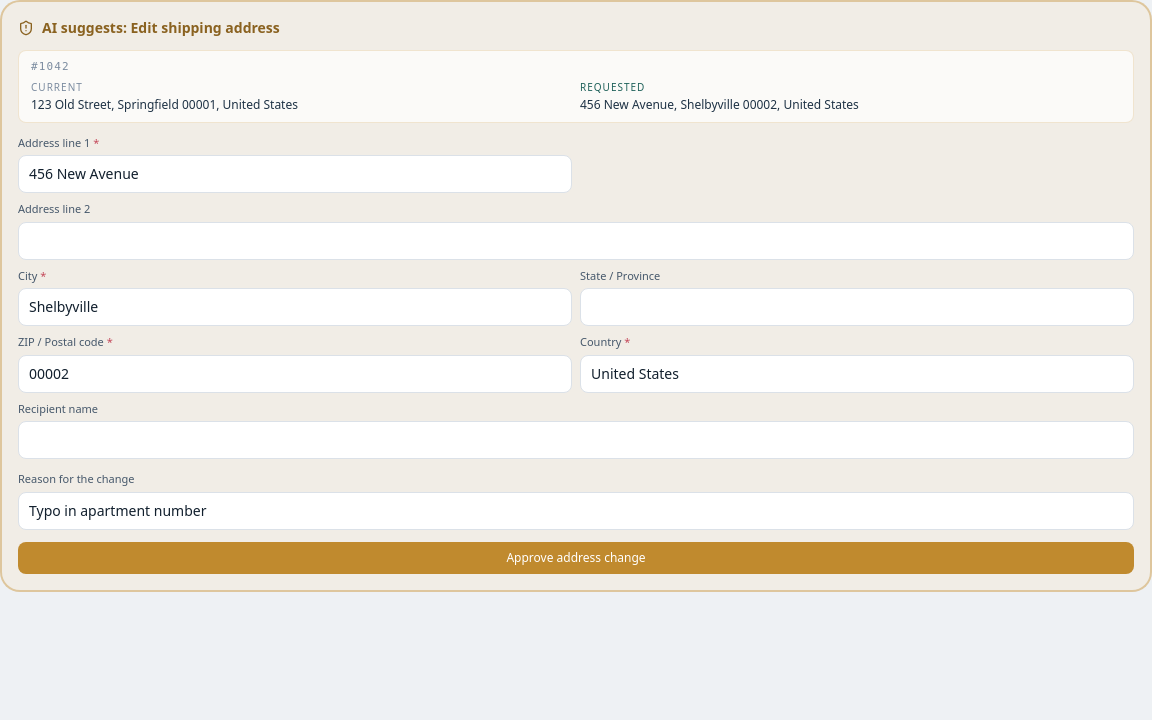
Scenario: ActionApprovalPanel — edit address › surfaces a server-side rejection instead of claiming success
Click the button "Approve address change". click: (576,558)
box: [18,542,1134,574]
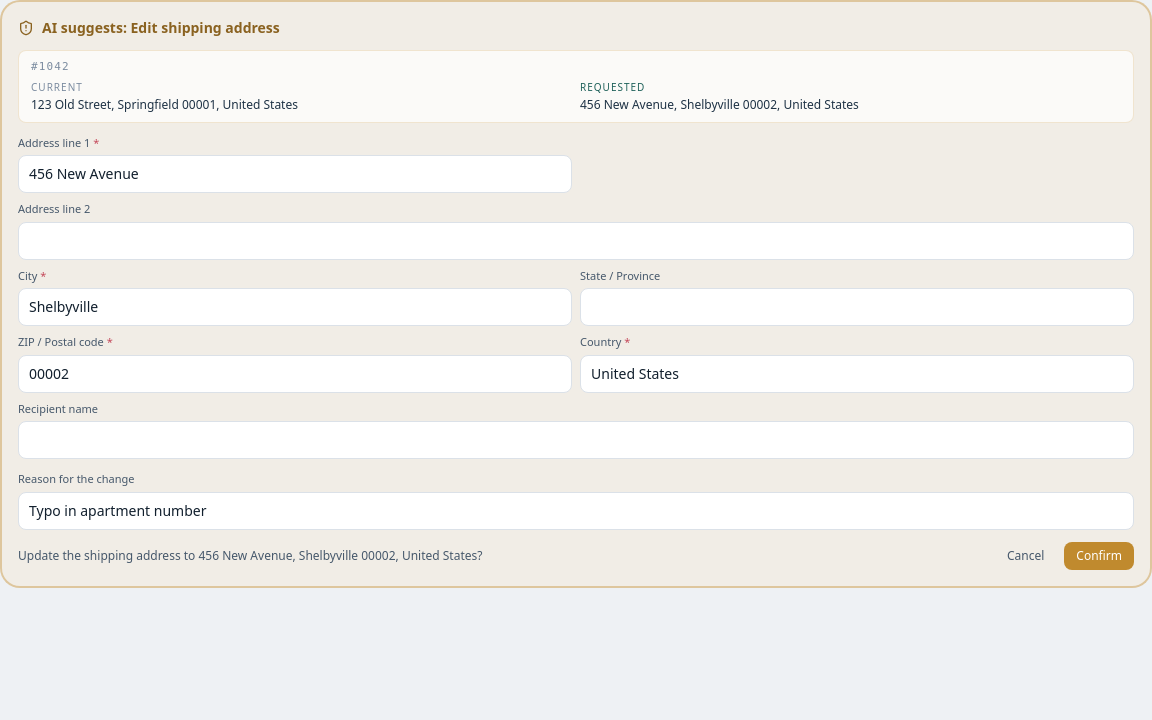
Click the button "Confirm". click: (1099,556)
box: [1064,542,1134,570]
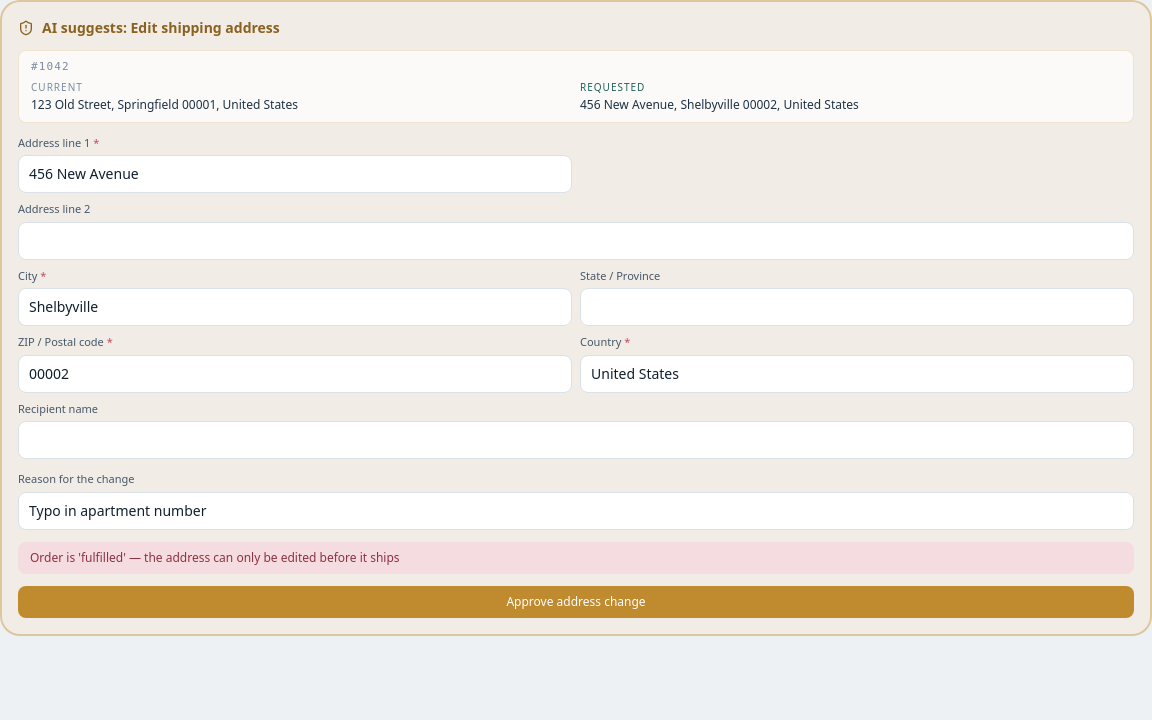
Result: the text "address can only be edited before it ships" is shown at [30,548,400,566]
